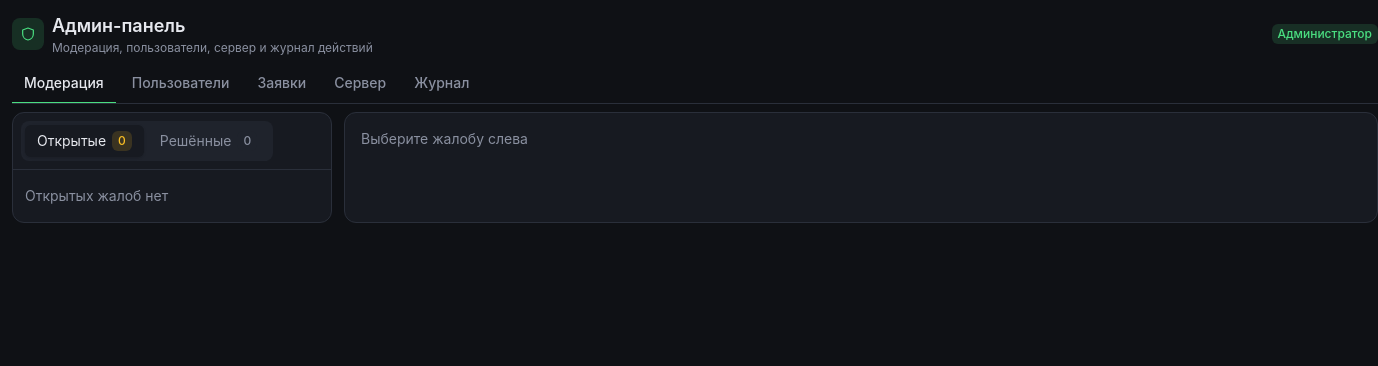
Test: users tab › lists every known account and filters it by the account search
This screenshot has width=1378, height=366.
Click the tab "Пользователи" at (181, 84), box [120, 64, 241, 104]
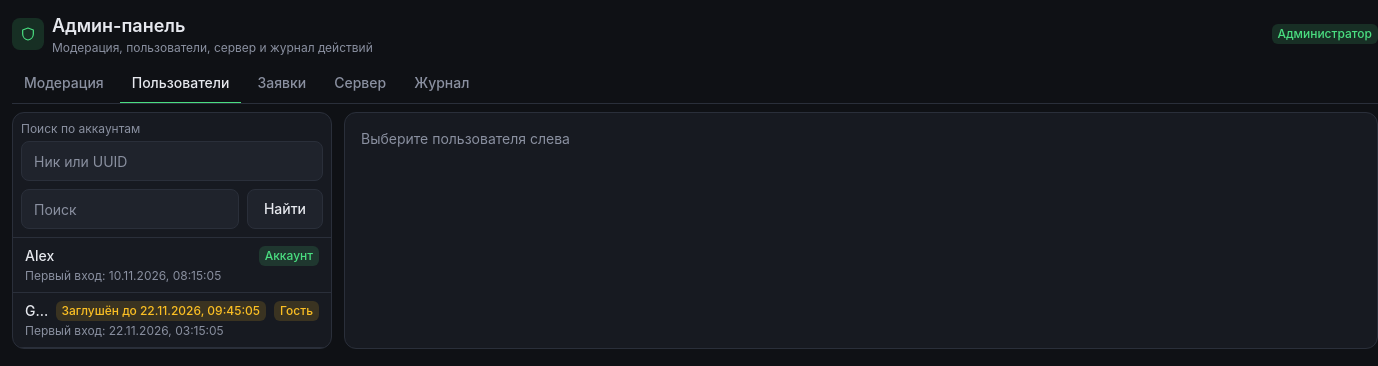
Expected: the text "Alex" is shown, [25, 247, 54, 264]
Expected: the text "Gremlin_" is shown, [25, 301, 48, 321]
Expected: the text "Аккаунт" is shown once, [259, 246, 319, 266]
Type "grem" into the field labelled "Поиск по аккаунтам" at (172, 161), box [21, 141, 323, 181]
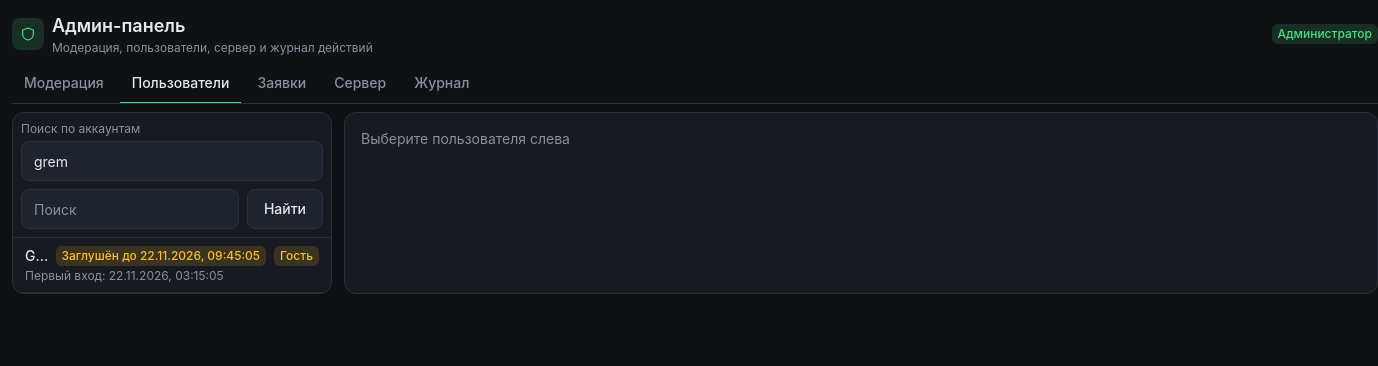
Expected: the text "Gremlin_" is shown, [25, 246, 48, 266]
Expected: the button "Alex" is gone
Replace the text in the field labelled "Поиск по аккаунтам" with "zzz" at (172, 161), box [21, 141, 323, 181]
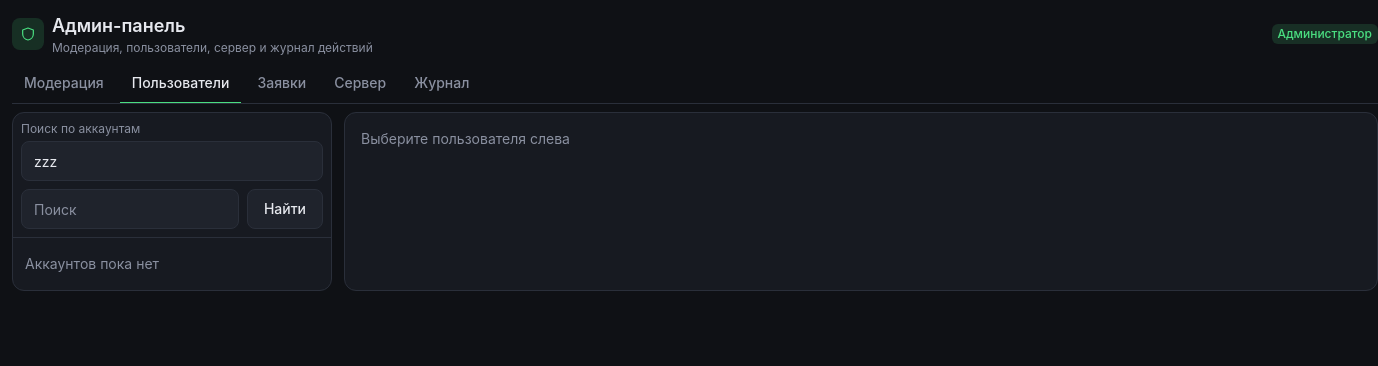
Expected: the text "Аккаунтов пока нет" is shown, [25, 255, 159, 272]
